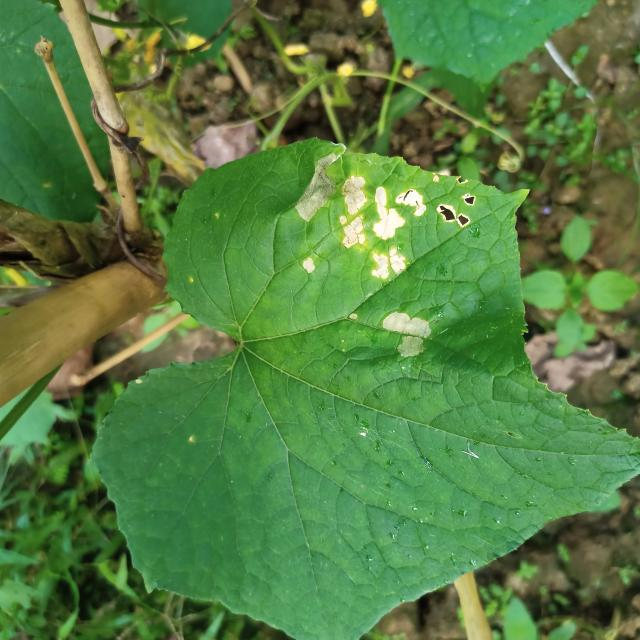disease_cucumber: (290, 152, 479, 285), (377, 303, 434, 364)
